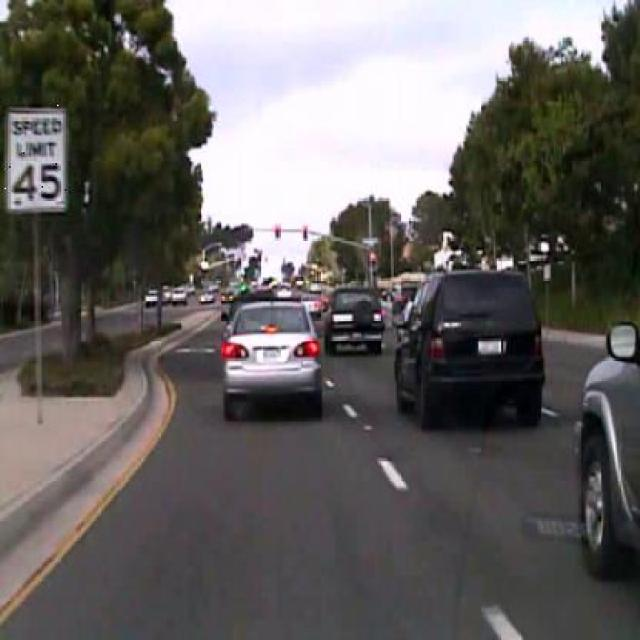speedLimit45: (3, 106, 67, 214)
